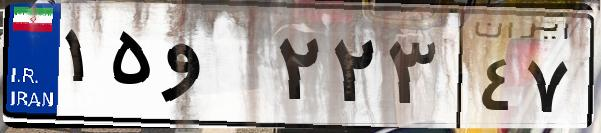1: (57, 26, 110, 100)
2: (270, 28, 330, 110), (330, 28, 385, 110)
3: (385, 28, 445, 110)
4: (475, 38, 525, 113)
5: (110, 28, 158, 98)
7: (525, 38, 570, 115)
و: (158, 20, 270, 120)
